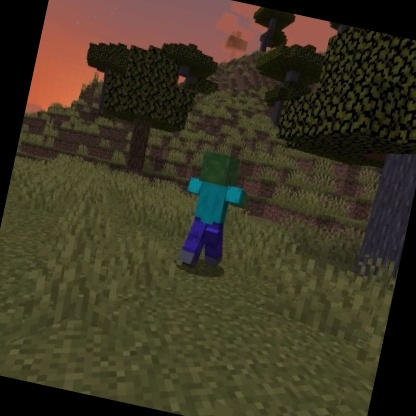zombie: (166, 145, 261, 280)
